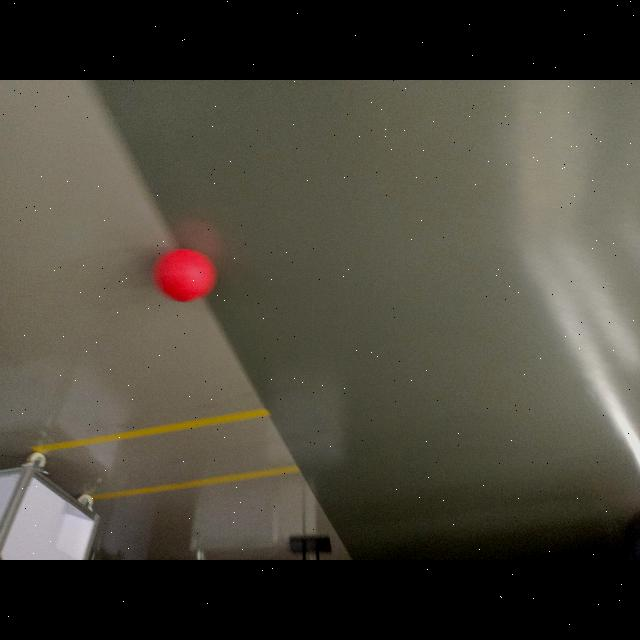R: (159, 248, 211, 302)
